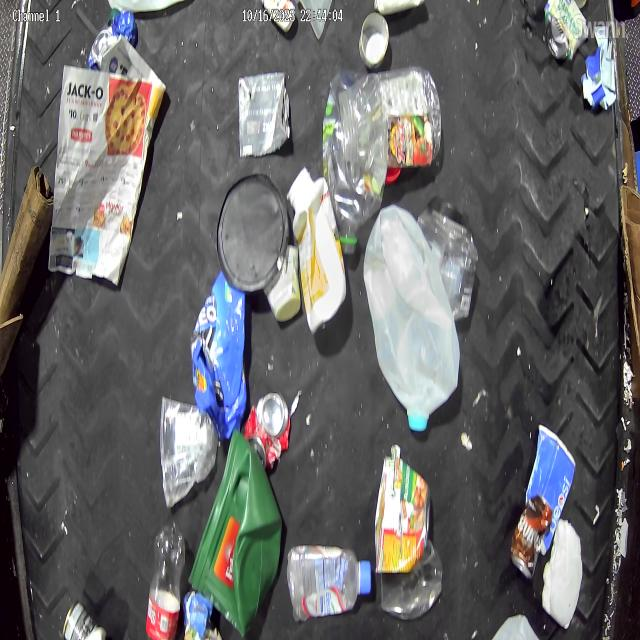can: (247, 390, 290, 473), (542, 0, 588, 63), (359, 9, 391, 72), (62, 598, 106, 639)
milk_jug: (363, 201, 459, 435), (541, 515, 583, 633), (105, 2, 205, 17)
non_white_jug: (194, 428, 283, 636), (288, 168, 346, 334), (192, 270, 249, 437)
plastic_bottle: (323, 68, 388, 251), (286, 542, 369, 622), (144, 517, 186, 639)
